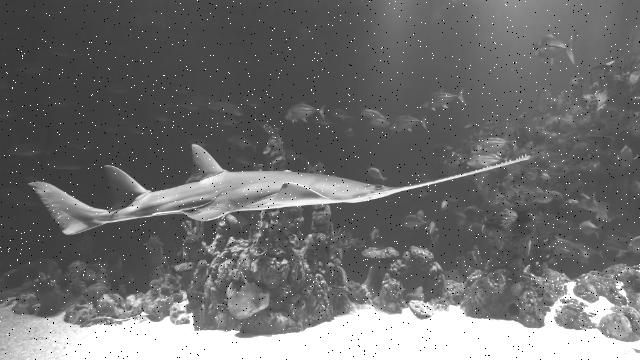Sirip Ekor: (18, 167, 96, 244)
Sirip Punggung: (100, 136, 246, 184)
